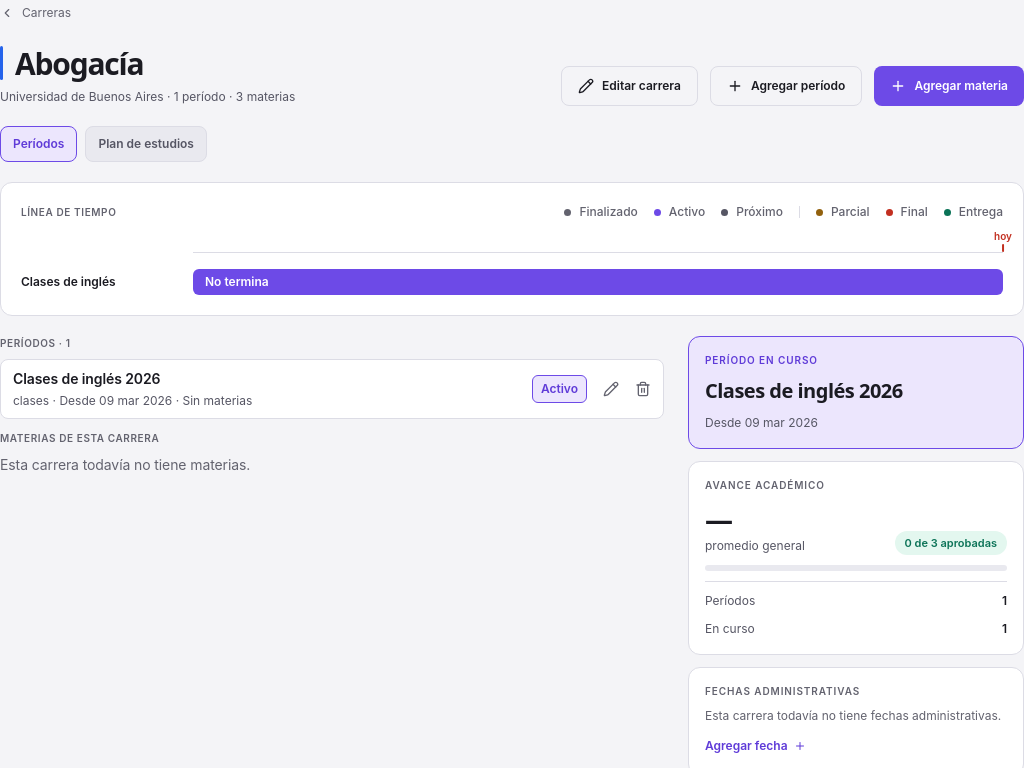
Test: CarreraDetailContainer — editar y eliminar períodos › refuses to save a pre-catalogue period until a tipo is chosen
This screenshot has width=1024, height=768.
Expected: the heading "Abogacía" is shown, 15,46 -> 144,80
Click the button named "Editar Clases de inglés" at {"x": 611, "y": 389}, box 595,373 -> 627,405
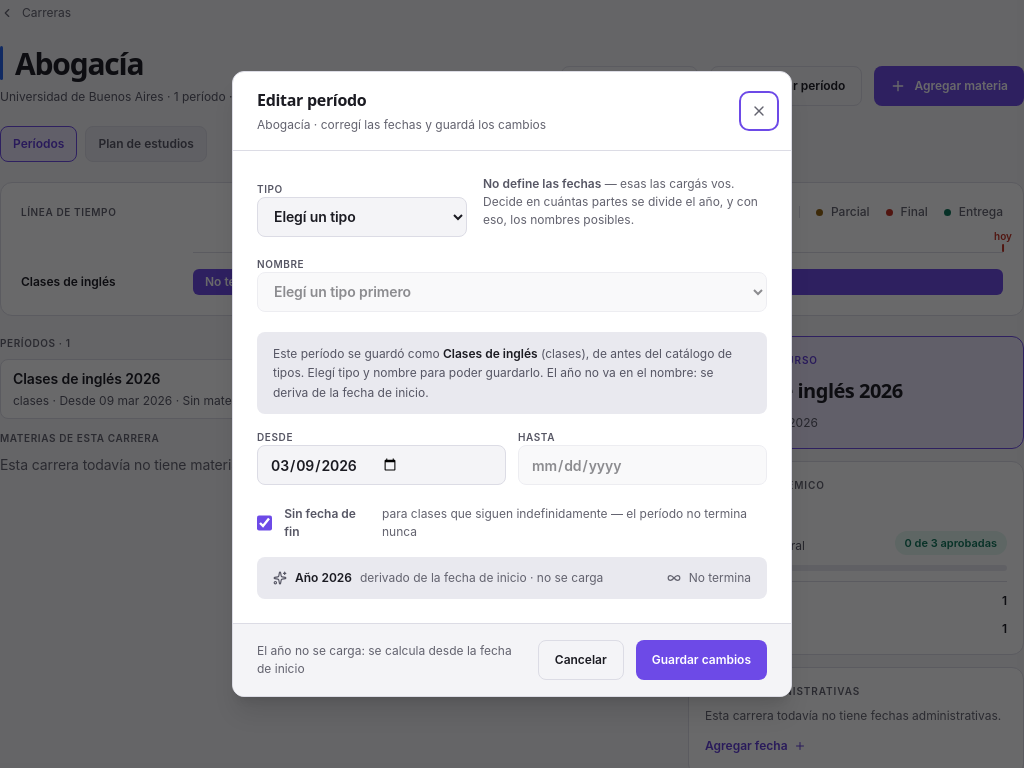
Click the button "Guardar cambios" at {"x": 701, "y": 660}, box 636,640 -> 767,680
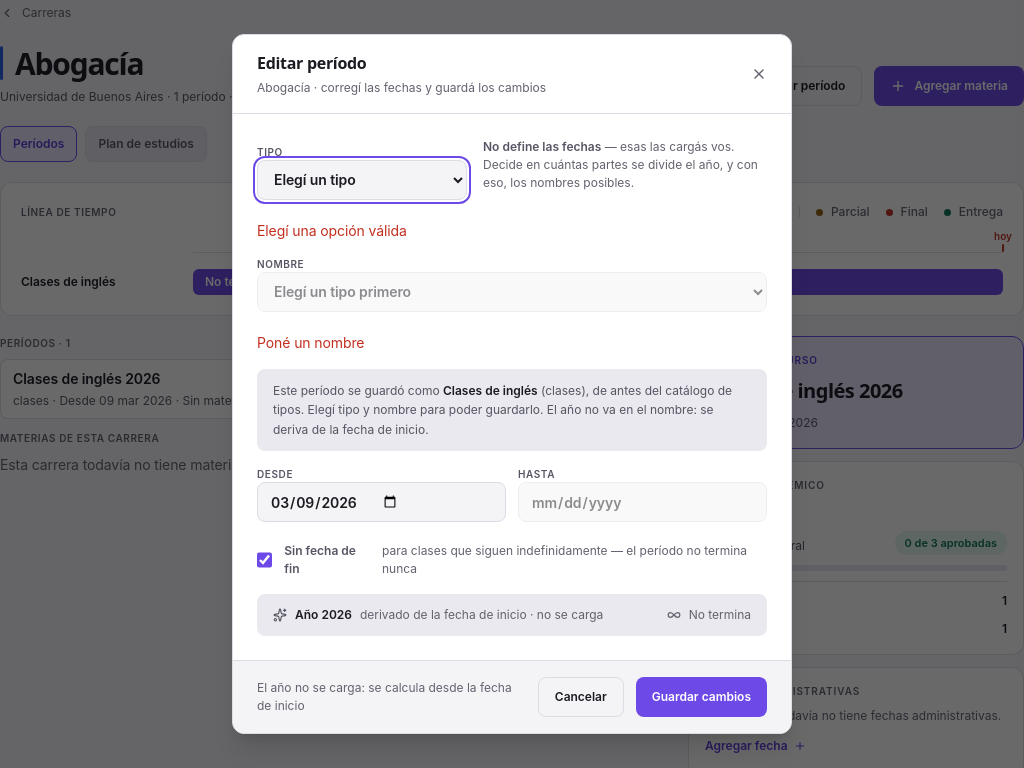
Expected: the text "Poné un nombre" is shown, 257,334 -> 364,351
